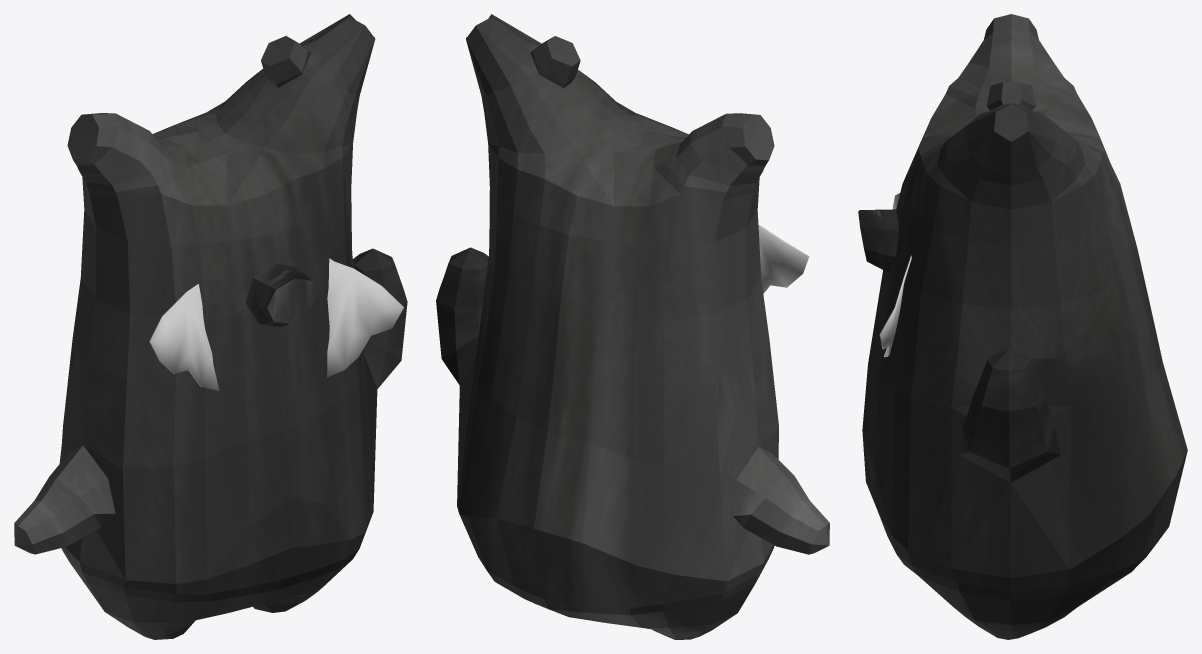
The model's file is frame_0040.obj.
3 views of the same model, side by side, from view 1: azimuth 30°, elevation 25°; view 2: azimuth 150°, elevation 25°; view 3: azimuth 270°, elevation 25° (orthographic).
Visible parts, largest first — view 1: korok, leaf, nose; view 2: korok, leaf; view 3: korok, nose, leaf.
Part boxes in pixels (left/top/right/bottom): korok: left=14, top=14, right=407, bottom=639; leaf: left=149, top=258, right=403, bottom=390; nose: left=246, top=263, right=317, bottom=326; korok: left=436, top=14, right=829, bottom=639; leaf: left=758, top=224, right=809, bottom=293; korok: left=862, top=14, right=1187, bottom=639; nose: left=858, top=209, right=898, bottom=272; leaf: left=879, top=193, right=911, bottom=357.
Size of the model in its own units: 1.6 by 2.25 by 1.18.
